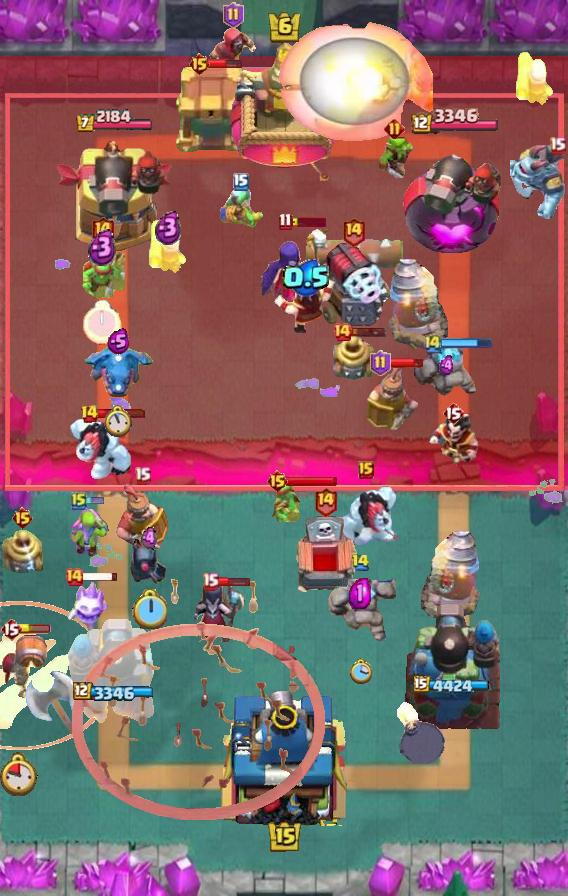axe: (23, 668, 81, 740)
bar: (286, 475, 338, 487), (441, 337, 493, 349), (96, 408, 146, 419), (350, 326, 387, 338), (388, 357, 424, 369), (208, 58, 243, 70), (82, 571, 119, 582), (216, 576, 251, 587), (15, 624, 51, 634), (290, 217, 326, 227), (85, 496, 105, 506)
bar-level: (313, 486, 338, 517), (341, 216, 366, 247), (90, 215, 115, 246), (11, 506, 34, 530), (266, 469, 289, 493), (188, 52, 211, 76), (370, 350, 391, 376), (223, 2, 244, 28), (0, 617, 22, 641), (442, 401, 464, 425), (384, 118, 405, 139), (423, 333, 443, 354), (64, 567, 84, 587), (332, 322, 352, 342), (80, 404, 99, 424), (351, 553, 370, 572), (202, 572, 219, 591), (134, 466, 151, 485), (549, 136, 566, 155), (71, 491, 87, 511), (358, 461, 374, 479), (233, 173, 249, 191), (278, 212, 293, 231)
bomb: (394, 702, 446, 764)
cannoneer-tower: (53, 138, 175, 256), (403, 601, 503, 731), (403, 138, 503, 256), (67, 611, 161, 731)
clock: (83, 300, 122, 345), (0, 752, 38, 796), (132, 589, 167, 629), (104, 405, 132, 438), (349, 658, 372, 685)
electro-dragon: (82, 338, 154, 400)
electro-wizard: (273, 276, 339, 334), (427, 414, 479, 468)
elixir: (282, 259, 331, 297), (88, 228, 117, 266), (155, 210, 182, 245), (349, 578, 371, 609), (107, 328, 130, 355), (141, 526, 157, 551), (439, 355, 455, 376)
firecracker: (147, 217, 189, 275), (514, 49, 556, 107)
goblin: (370, 132, 418, 178), (67, 506, 109, 558)
golemite: (324, 577, 396, 647), (414, 340, 480, 402)
ice-spirit-evolution: (67, 579, 111, 633)
king-tower: (214, 684, 354, 826), (230, 43, 338, 181)
mega-minion: (510, 144, 568, 222)
mini-pekka: (128, 535, 170, 589)
night-witch: (191, 578, 247, 648)
royal-recruit: (115, 481, 169, 551), (366, 362, 418, 430)
spear-goblin: (79, 249, 125, 301), (216, 185, 266, 229), (270, 478, 312, 522)
the-log: (304, 238, 406, 274)
tower-bar: (408, 108, 498, 136), (75, 109, 154, 134), (73, 682, 156, 703), (414, 676, 493, 696)
wall-breaker: (0, 633, 50, 701)
witch: (258, 224, 334, 304)
wizard: (208, 26, 258, 76)
zappy: (329, 332, 377, 382), (0, 530, 46, 578)
